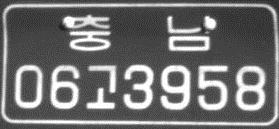0: (14, 64, 43, 108)
3: (122, 63, 154, 110)
5: (196, 64, 227, 111)
6: (49, 64, 79, 110)
8: (234, 64, 265, 112)
9: (159, 65, 191, 111)
고: (85, 63, 116, 110)
충남_D: (68, 14, 211, 52)
